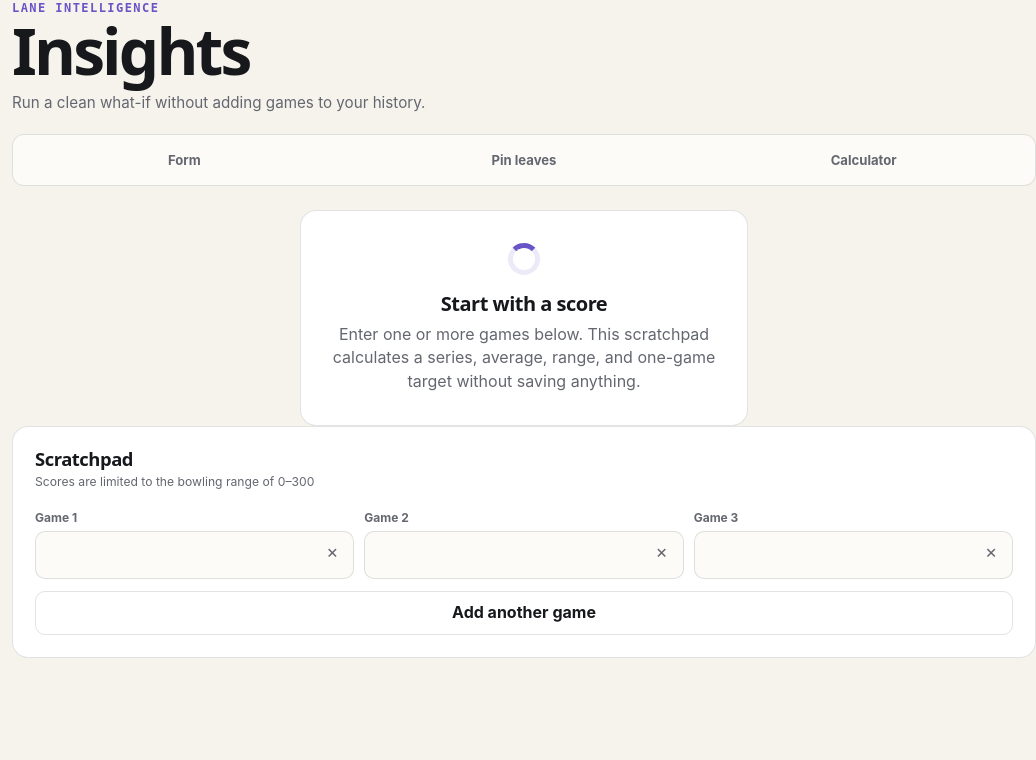
Test: Insights pages › clears a stale copy failure when retrying the link succeeds
The image size is (1036, 760).
In the number field labelled "Game 1": (195, 555) x1=35 y1=531 x2=354 y2=579, type "200"
(page scrolled)
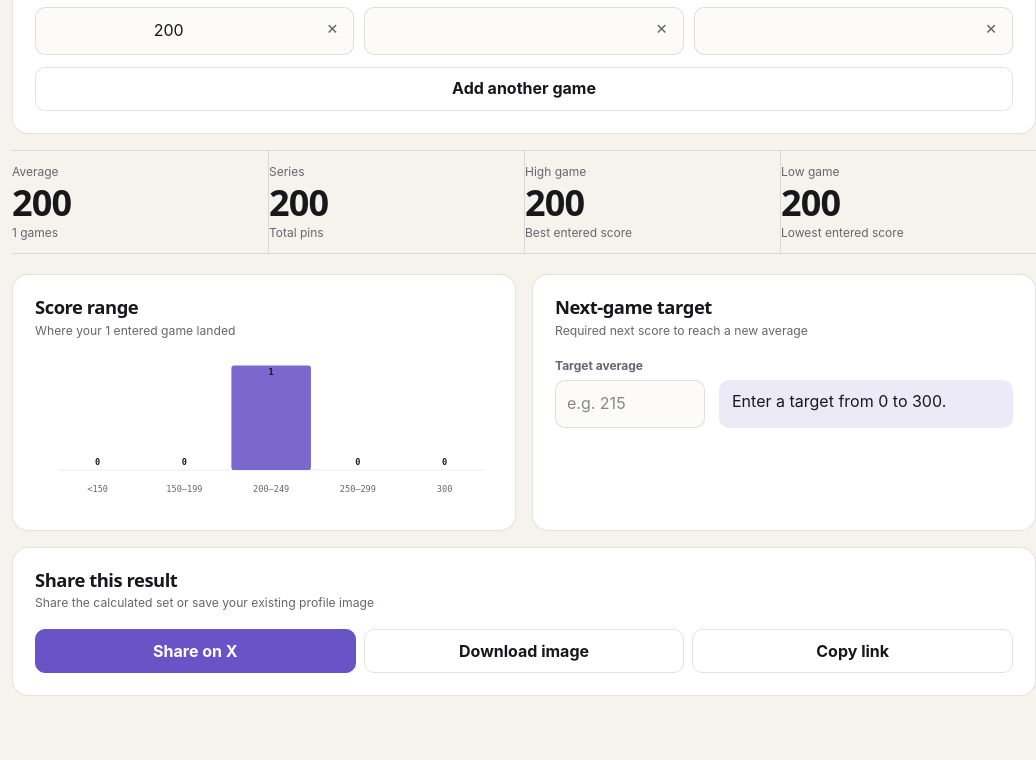
Click the button "Copy link": click(853, 652) x1=692 y1=630 x2=1013 y2=674
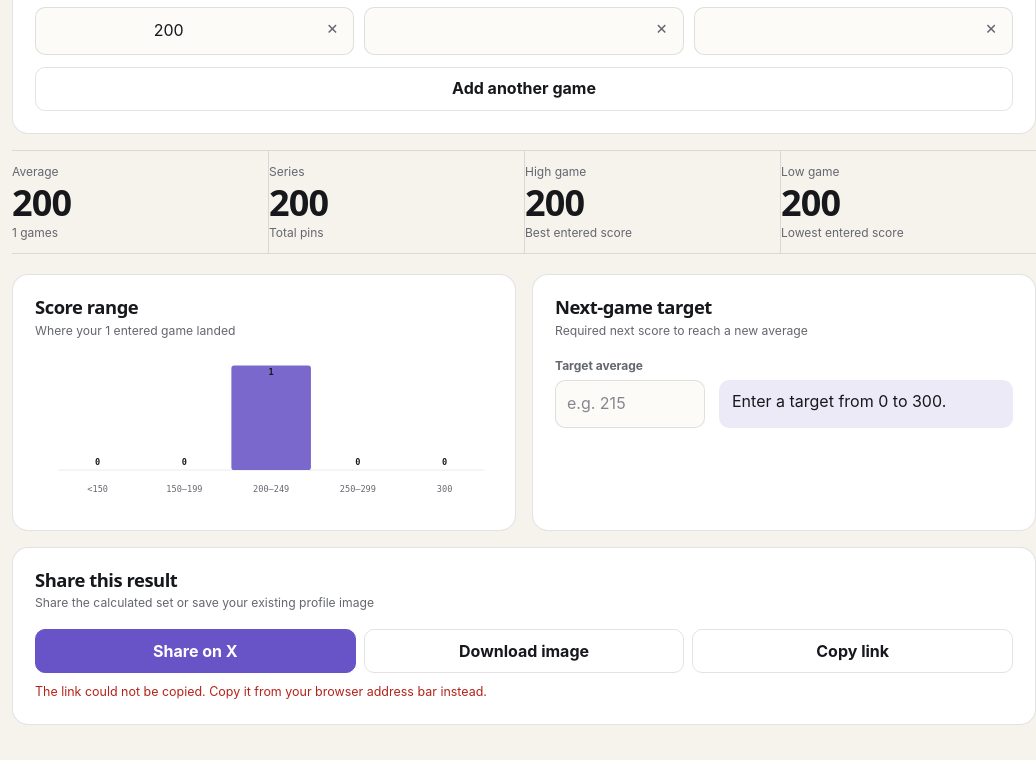
Expected: the message shows "could not be copied", x1=35 y1=684 x2=487 y2=700
Click the button "Copy link": click(853, 652) x1=692 y1=630 x2=1013 y2=674
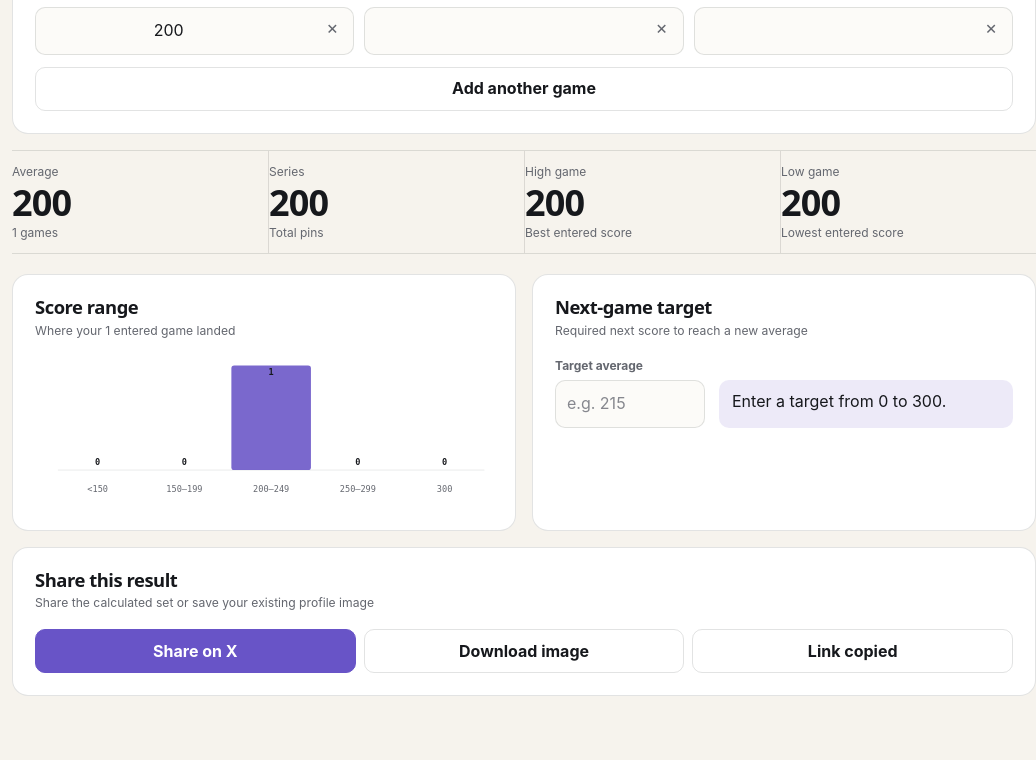
Expected: the button "Link copied" is shown, x1=692 y1=630 x2=1013 y2=674
Expected: the message "The link could not be copied. Copy it from your browser address bar instead." is gone
